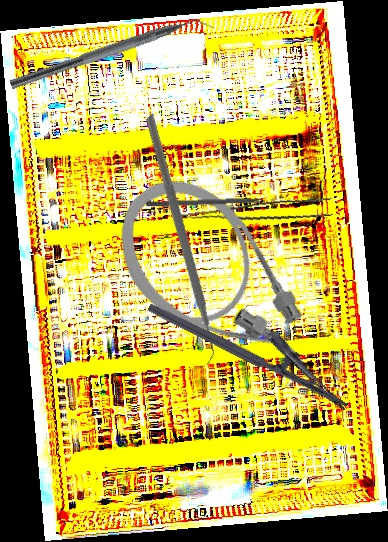Cannula: (92, 153, 337, 415)
Chopper: (44, 112, 308, 374), (9, 7, 216, 104)
Hook Surgical: (145, 196, 279, 209)
Needle Holder: (146, 275, 363, 412)
Tissue Forceps: (177, 193, 335, 237)
